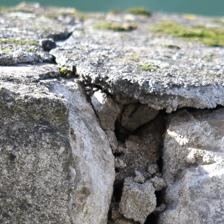Crack: (42, 42, 128, 175)
